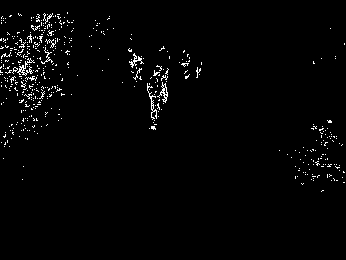person: (143, 59, 170, 131)
